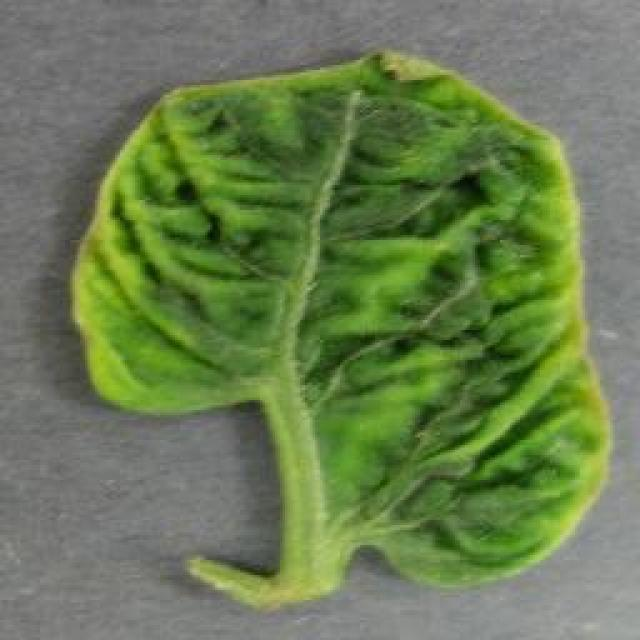Tomato yellow virus leaf: (69, 46, 609, 592)
